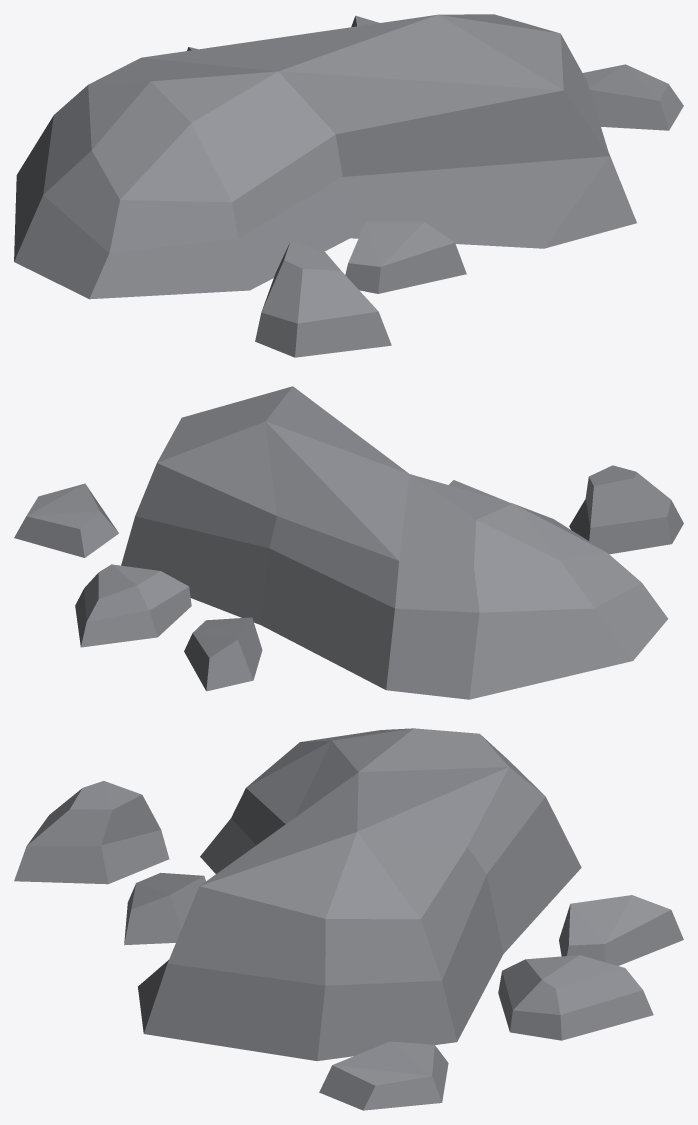
The model's file is stone_6.obj.
3 views of the same model, one above another, from view 1: azimuth 30°, elevation 25°; view 2: azimuth 150°, elevation 25°; view 3: azimuth 270°, elevation 25° (orthographic). The views are drawn at different scales.
Parts seen in each view (by area): view 1: stone_6_Cube.031; view 2: stone_6_Cube.031; view 3: stone_6_Cube.031.
Part boxes in pixels (x1=…): stone_6_Cube.031: x1=14, y1=14, x2=683, y2=357; stone_6_Cube.031: x1=14, y1=386, x2=683, y2=699; stone_6_Cube.031: x1=14, y1=728, x2=683, y2=1110.
Size of the model in its own units: 2.06 by 0.4567 by 1.78.
